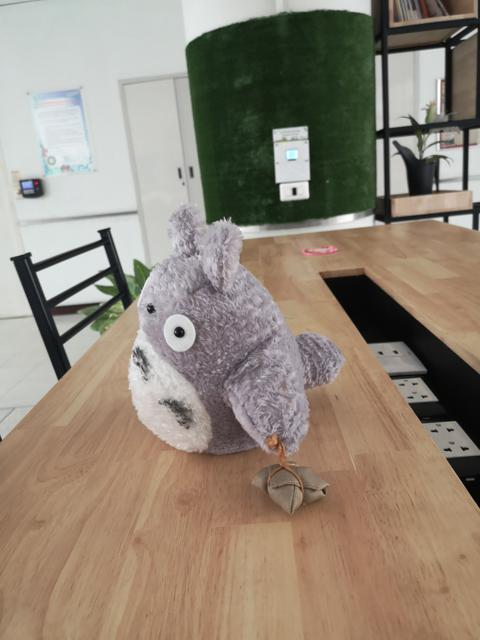totoro: (122, 201, 345, 519)
